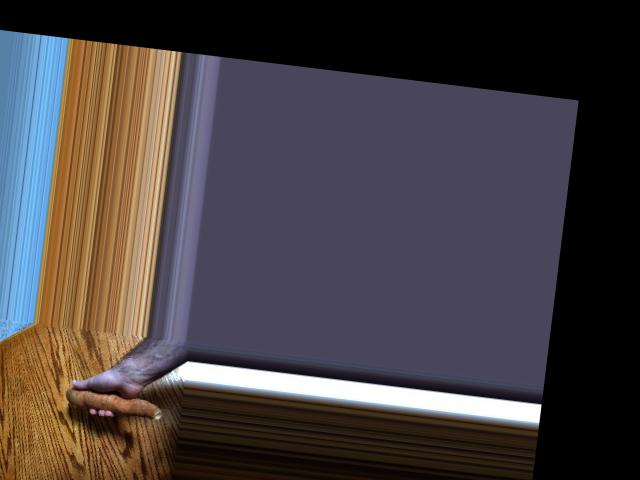sweet_potato: (68, 379, 166, 419)
